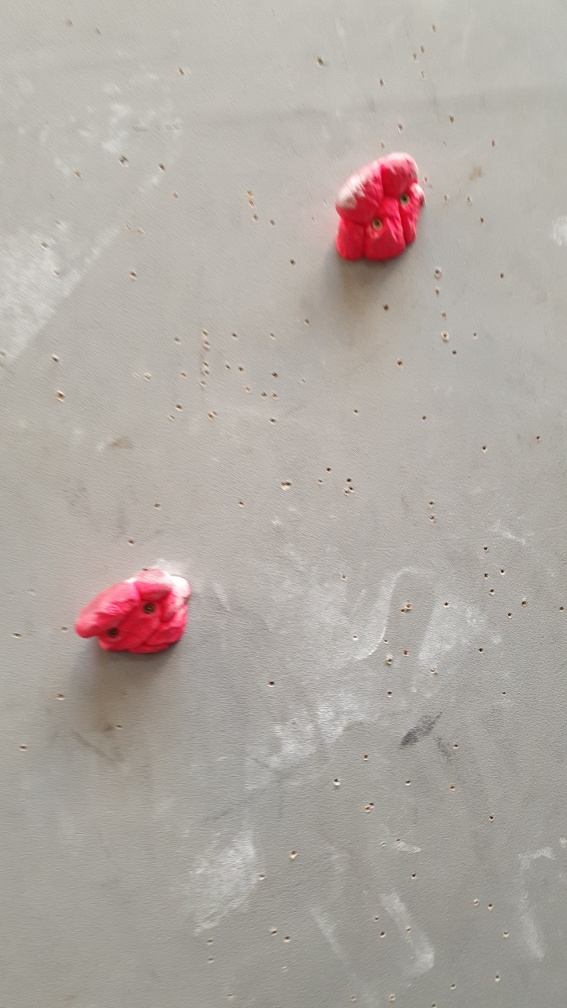Jug: (330, 151, 428, 268), (70, 565, 194, 656)
